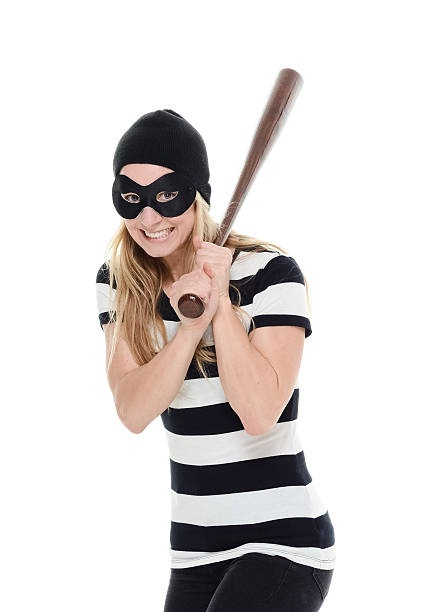bita: (184, 65, 304, 318)
